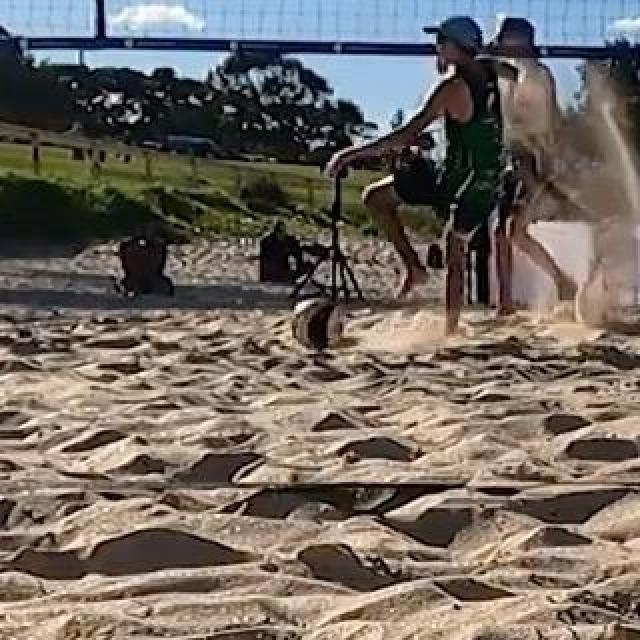volleyball: (293, 298, 345, 350)
